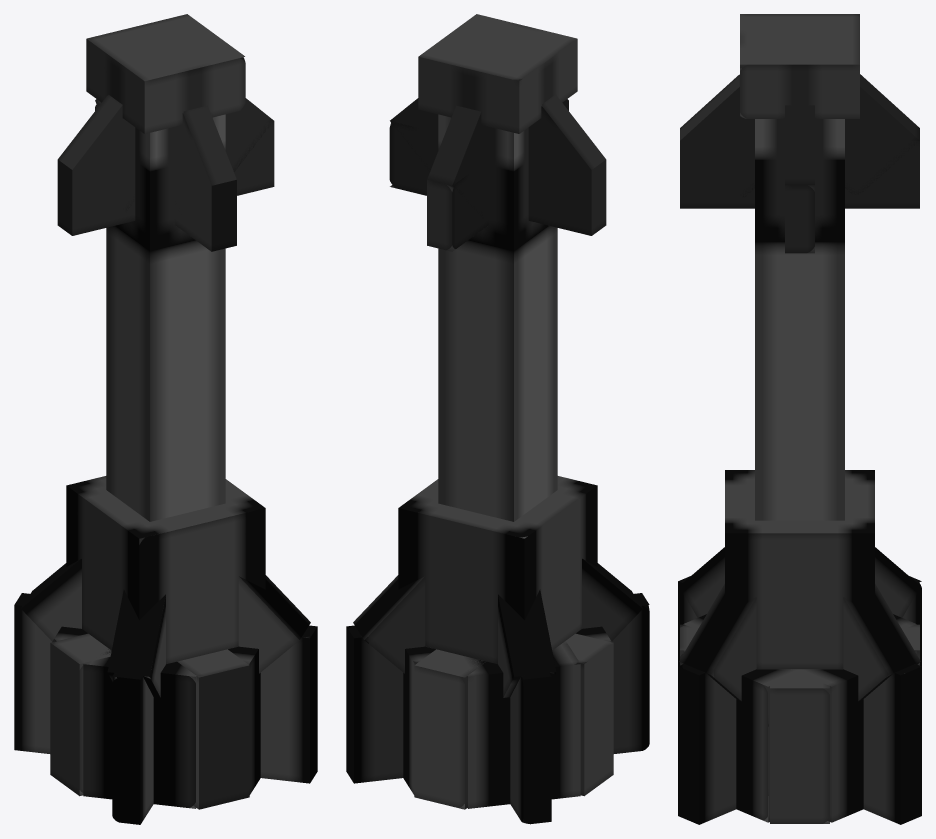
The model's file is missile_base_t4.obj.
3 views of the same model, side by side, from view 1: azimuth 30°, elevation 25°; view 2: azimuth 150°, elevation 25°; view 3: azimuth 270°, elevation 25° (orthographic). The views are drawn at different scales.
Visible parts, largest first — view 1: group_0, group_1, Component_67, Component_65, group_2, Component_66, Component_71, Component_68, Component_72; view 2: group_0, group_1, Component_67, group_2, Component_65, Component_66, Component_71, Component_68, Component_72; view 3: group_0, group_1, Component_67, Component_68, Component_71, group_2, Component_72, Component_66, Component_65.
Boxes of the visible parts, box(x1,y1,x2,y2) form: group_0: box(106, 114, 225, 544); group_1: box(66, 476, 265, 664); Component_67: box(14, 593, 317, 824); Component_65: box(50, 633, 249, 809); group_2: box(86, 14, 245, 133); Component_66: box(52, 626, 260, 808); Component_71: box(57, 103, 274, 251); Component_68: box(21, 559, 310, 697); Component_72: box(58, 95, 273, 215); group_0: box(438, 114, 557, 538); group_1: box(398, 476, 597, 664); Component_67: box(346, 593, 649, 824); group_2: box(418, 14, 577, 133); Component_65: box(414, 633, 613, 809); Component_66: box(403, 626, 611, 808); Component_71: box(389, 100, 606, 251); Component_68: box(353, 558, 642, 697); Component_72: box(390, 79, 605, 218); group_0: box(755, 119, 844, 520); group_1: box(725, 470, 874, 669); Component_67: box(678, 576, 921, 824); Component_68: box(679, 547, 920, 726); Component_71: box(680, 141, 919, 253); group_2: box(740, 14, 859, 118); Component_72: box(680, 74, 919, 197); Component_66: box(683, 614, 916, 822); Component_65: box(680, 624, 919, 823).
Size of the model in its own units: 102 by 340 by 102.
